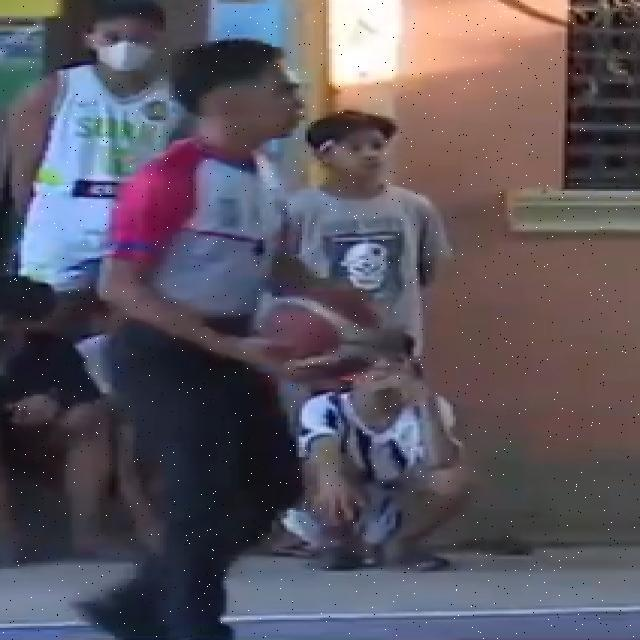ball: (236, 277, 406, 395)
